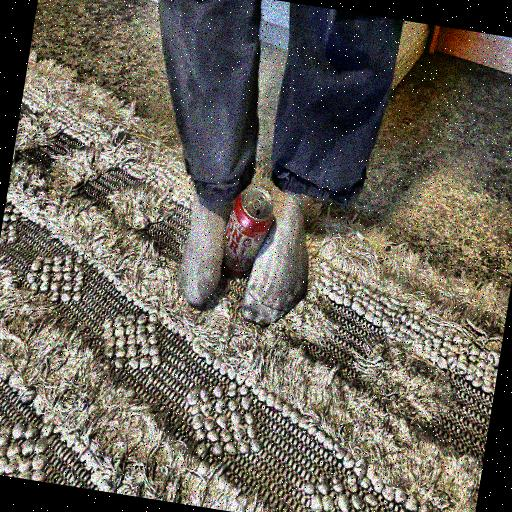koff: (210, 181, 276, 284)
